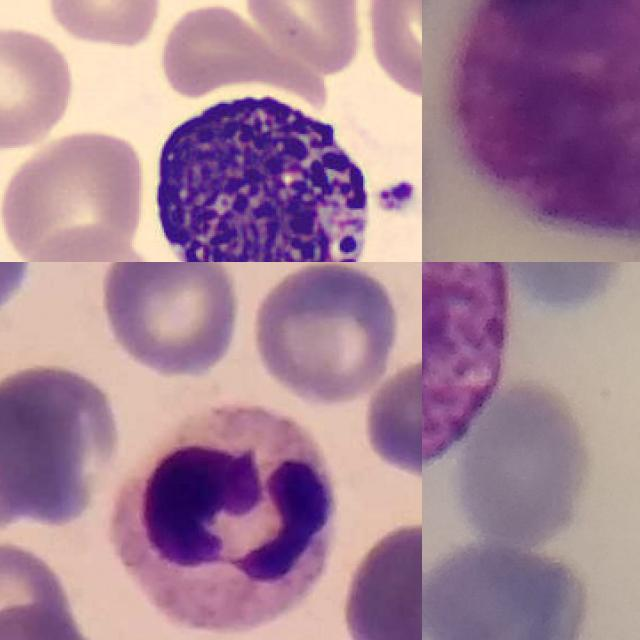Basophil: (451, 0, 640, 234), (141, 80, 381, 262), (422, 262, 511, 487)
Neutrophil: (111, 408, 339, 633)
Platelets: (374, 174, 422, 217)
RBC: (0, 125, 149, 262), (0, 19, 78, 153), (237, 0, 367, 77), (359, 0, 422, 103), (13, 229, 187, 262), (41, 0, 163, 47)
